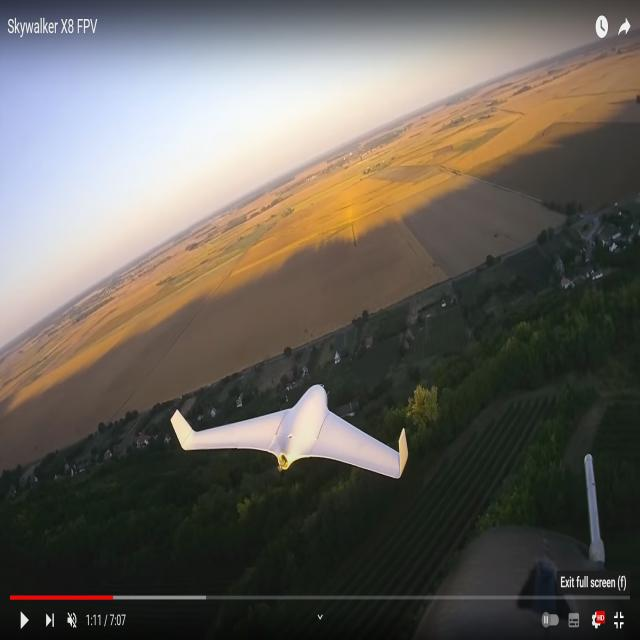iha: (172, 413, 408, 463)
